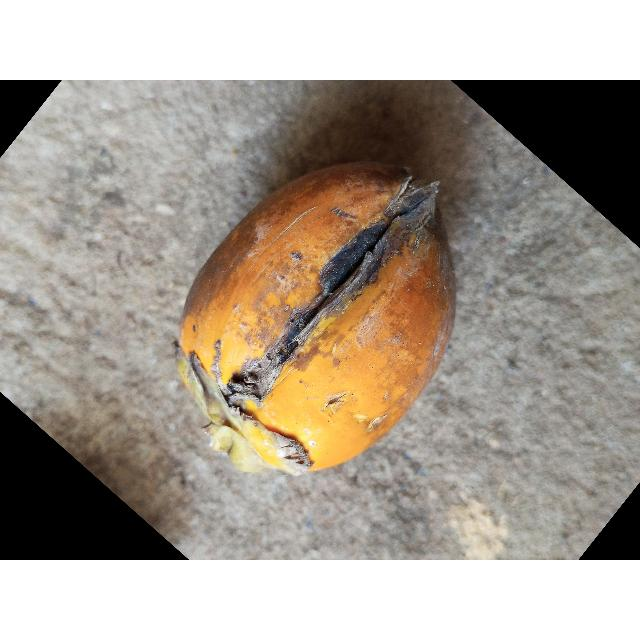damaged: (177, 163, 455, 475)
